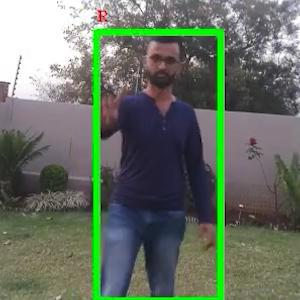takeoff-hand: (86, 76, 131, 129)
